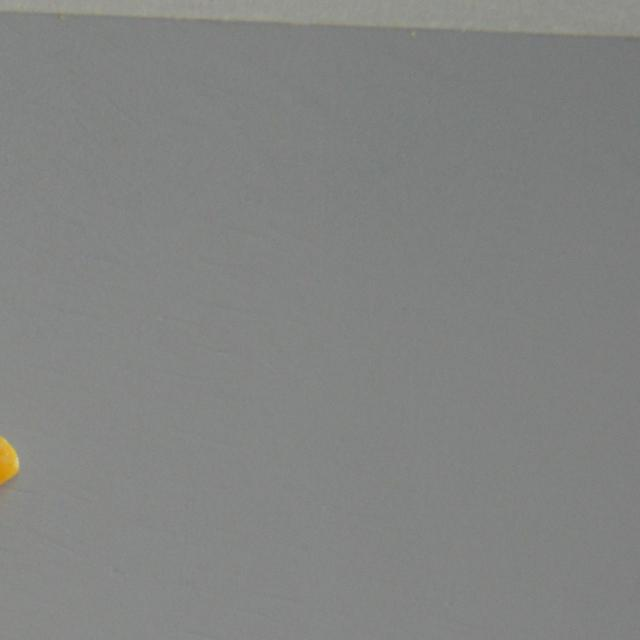pelicula: (0, 430, 35, 528)
